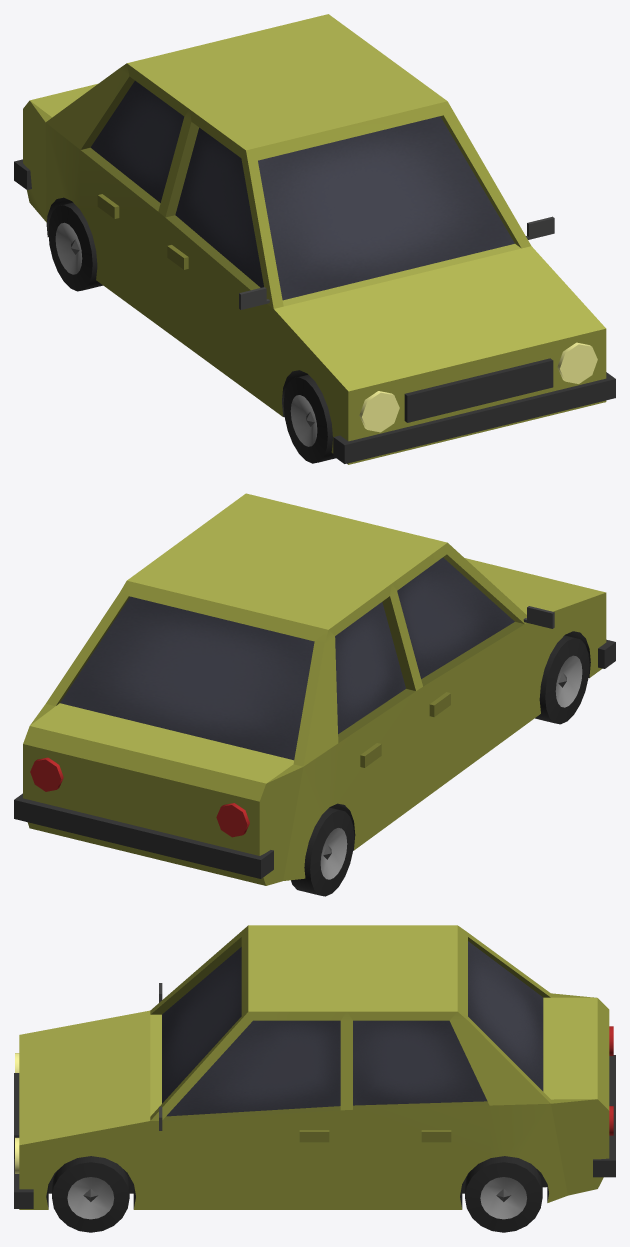
File: Car_C3.fbx
3 views of the same model, one above another, from view 1: azimuth 30°, elevation 25°; view 2: azimuth 150°, elevation 25°; view 3: azimuth 270°, elevation 25° (orthographic). The views are drawn at different scales.
Parts seen in each view (by area): view 1: Car3_Body, Car3_RF, Car3_RR; view 2: Car3_Body, Car3_RR, Car3_RF; view 3: Car3_Body, Car3_LF, Car3_LR.
Part boxes in pixels (x1,y1,x2,y2): Car3_Body: (14, 14, 615, 464); Car3_RF: (283, 374, 335, 463); Car3_RR: (48, 202, 102, 291); Car3_Body: (14, 493, 615, 885); Car3_RR: (291, 807, 354, 896); Car3_RF: (535, 635, 589, 724); Car3_Body: (14, 925, 615, 1209); Car3_LF: (52, 1156, 129, 1232); Car3_LR: (465, 1156, 542, 1232).
Size of the model in its own units: 191 by 138 by 362.
Materials: 1 (1 with a texture image).
